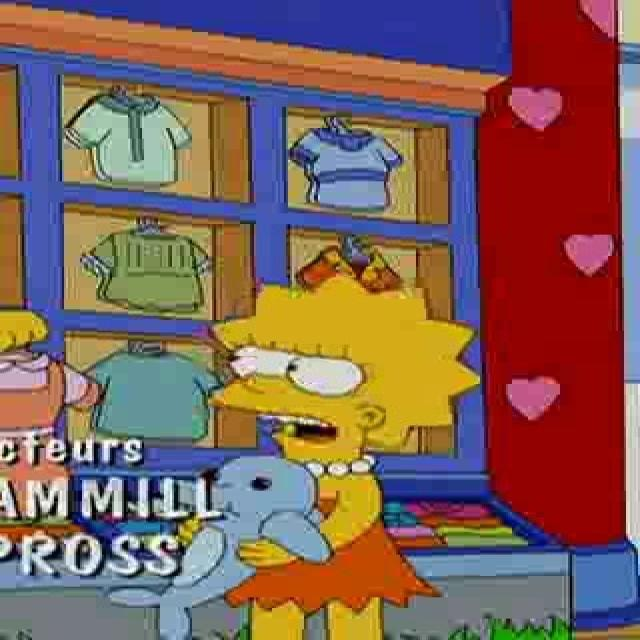Lisa Simpson: (206, 273, 486, 479)
